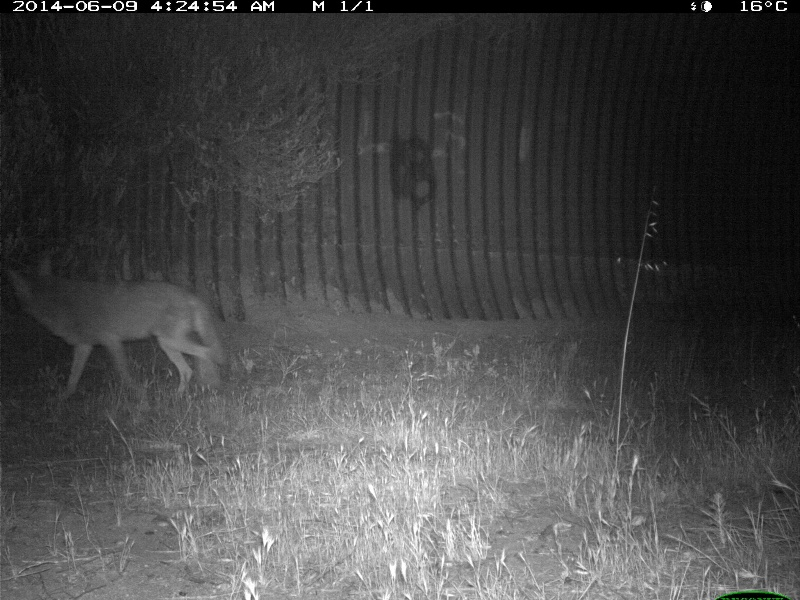coyote: (1, 250, 232, 400)
